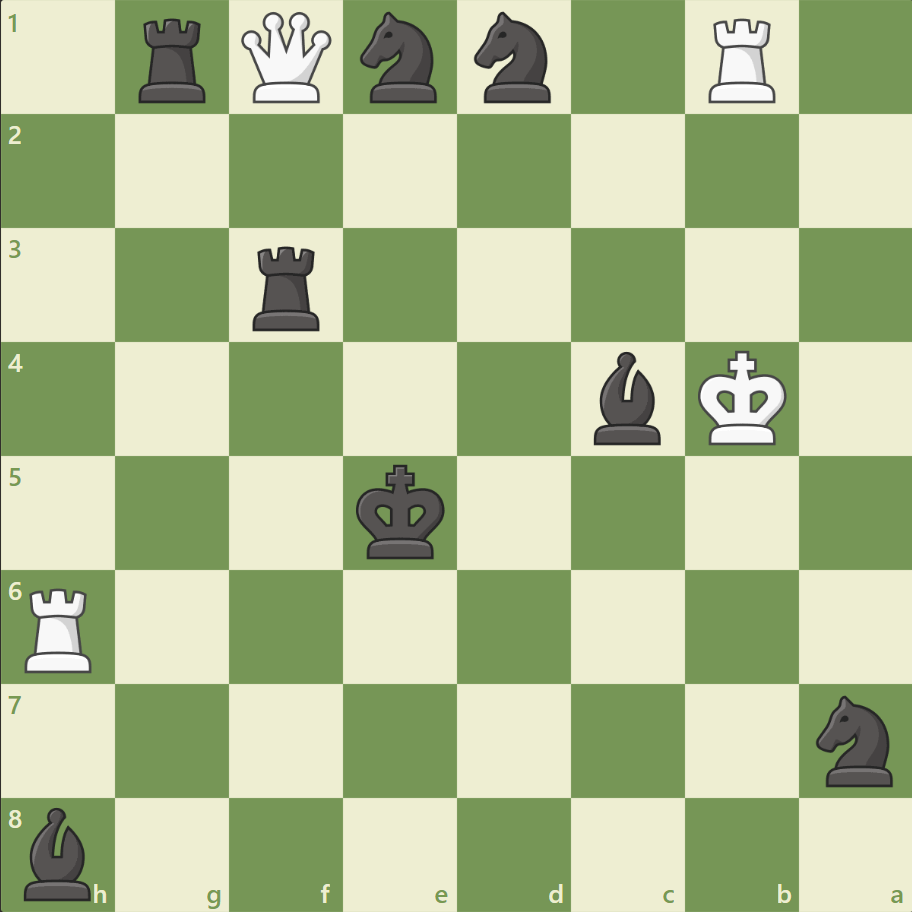K: (692, 344, 792, 452)
Q: (237, 9, 336, 108)
R: (19, 579, 102, 676), (700, 12, 783, 109)
b: (17, 801, 101, 904), (585, 347, 669, 449)
k: (351, 458, 451, 566)
n: (351, 7, 449, 110), (806, 688, 903, 791), (465, 7, 562, 110)
r: (246, 239, 329, 336), (133, 12, 215, 109)
